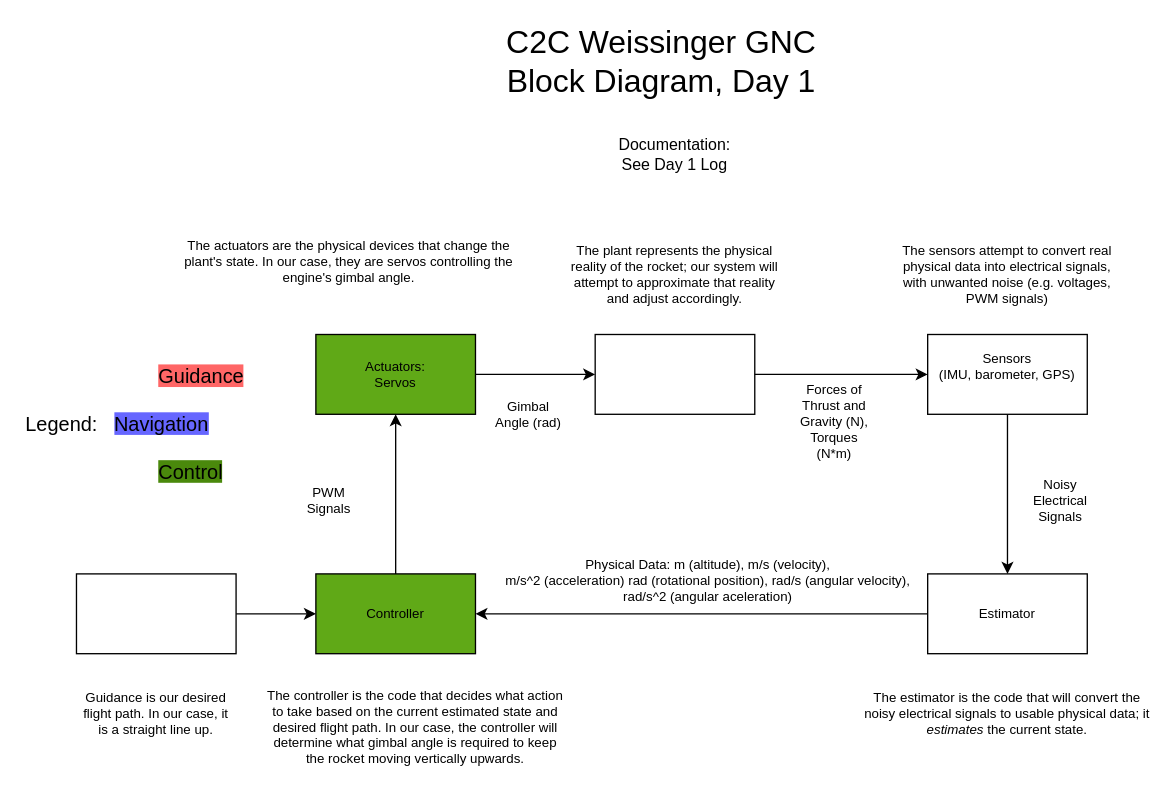
The diagram is 1176 pixels wide and 789 high, and some of its shapes have lost their labels. Each missing label, with the centre of its shape:
"Guidance" belongs at [155,613].
"Plant: Current State" belongs at [674,373].
